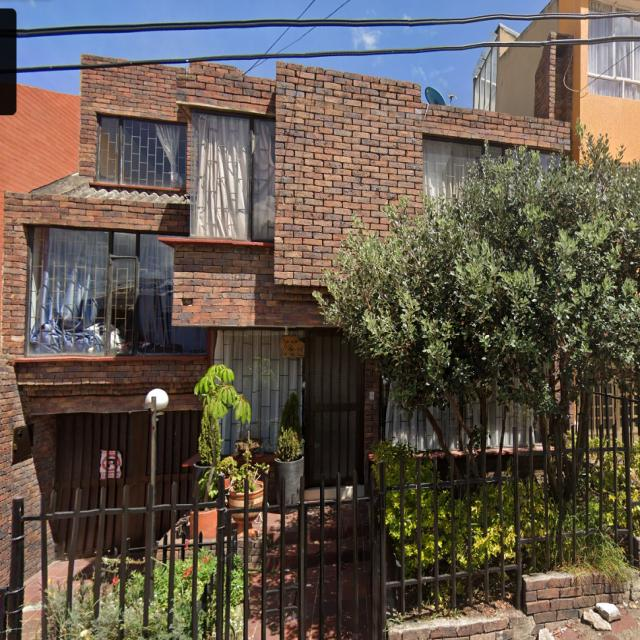Casa: (3, 56, 567, 501), (494, 0, 639, 161)
